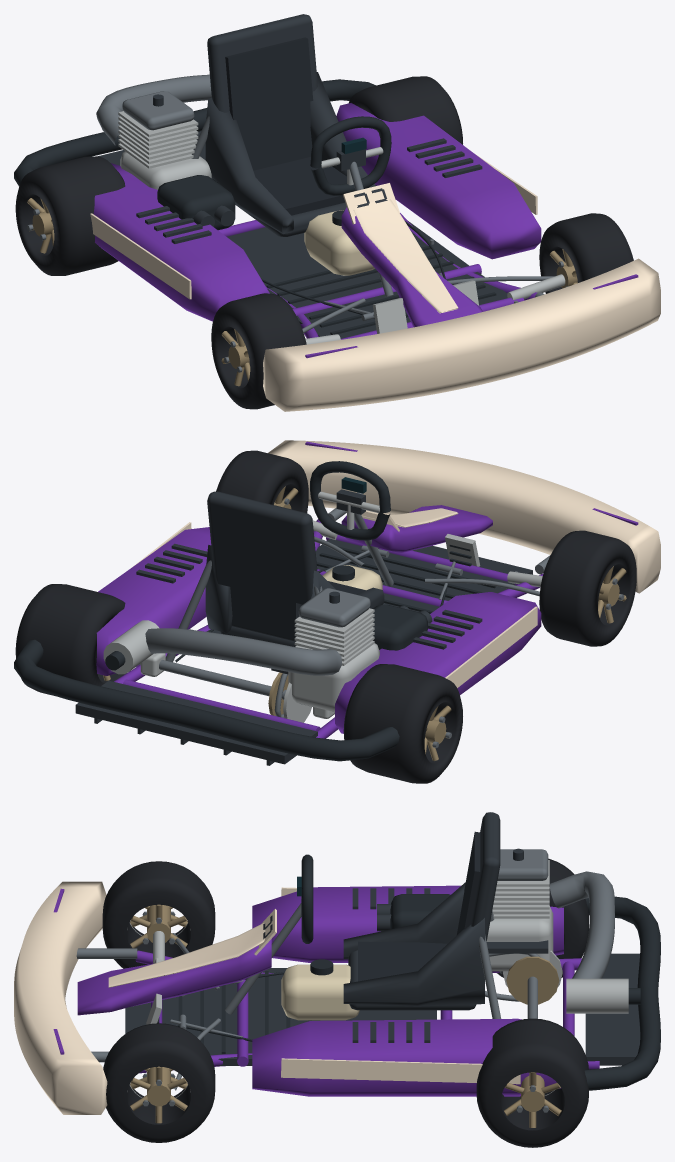
The model's file is oodi.glb.
3 views of the same model, one above another, from view 1: azimuth 30°, elevation 25°; view 2: azimuth 150°, elevation 25°; view 3: azimuth 270°, elevation 25° (orthographic).
Parts seen in each view (by area): view 1: Livery ivory (×2), paint, Slick vulcanised rubber (×4), Satin composite, Seat fabric, Moulded bumper polymer (×2), Brushed alloy (×2), Steel fasteners, Fuel reservoir, Magnesium wheel centres (×2); view 2: Slick vulcanised rubber (×4), Satin composite (×3), Livery ivory (×2), paint, Moulded bumper polymer (×2), Steel fasteners, Brushed alloy (×3), Magnesium wheel centres (×2), Fuel reservoir; view 3: paint, Slick vulcanised rubber (×4), Satin composite (×2), Livery ivory (×2), Moulded bumper polymer (×2), Steel fasteners (×2), Brushed alloy, Magnesium wheel centres (×4), Seat fabric, Fuel reservoir.
Part boxes in pixels (x1,y1,x2,y2): Livery ivory (×2): (90, 154, 660, 411); paint: (93, 103, 541, 339); Slick vulcanised rubber (×4): (15, 76, 633, 409); Satin composite: (136, 14, 507, 338); Seat fabric: (225, 37, 346, 215); Moulded bumper polymer (×2): (14, 79, 496, 334); Brushed alloy (×2): (118, 111, 565, 344); Steel fasteners: (96, 74, 554, 332); Fuel reservoir: (304, 210, 374, 275); Magnesium wheel centres (×2): (27, 198, 250, 386); Slick vulcanised rubber (×4): (15, 450, 636, 783); Satin composite (×3): (75, 489, 532, 765); Livery ivory (×2): (131, 440, 660, 687); paint: (96, 505, 543, 738); Moulded bumper polymer (×2): (14, 461, 496, 761); Steel fasteners: (139, 513, 539, 717); Brushed alloy (×3): (103, 491, 542, 722); Magnesium wheel centres (×2): (424, 566, 626, 761); Fuel reservoir: (322, 565, 382, 590); paint: (77, 885, 599, 1096); Slick vulcanised rubber (×4): (102, 858, 588, 1147); Satin composite (×2): (125, 812, 640, 1065); Livery ivory (×2): (14, 881, 520, 1114); Moulded bumper polymer (×2): (177, 854, 660, 1090); Steel fasteners (×2): (76, 849, 614, 1090); Brushed alloy: (153, 860, 628, 1013); Magnesium wheel centres (×4): (130, 904, 561, 1127); Seat fabric: (358, 831, 480, 981); Fuel reservoir: (281, 964, 359, 1020).
Size of the model in its own units: 2 by 1.01 by 2.7.
